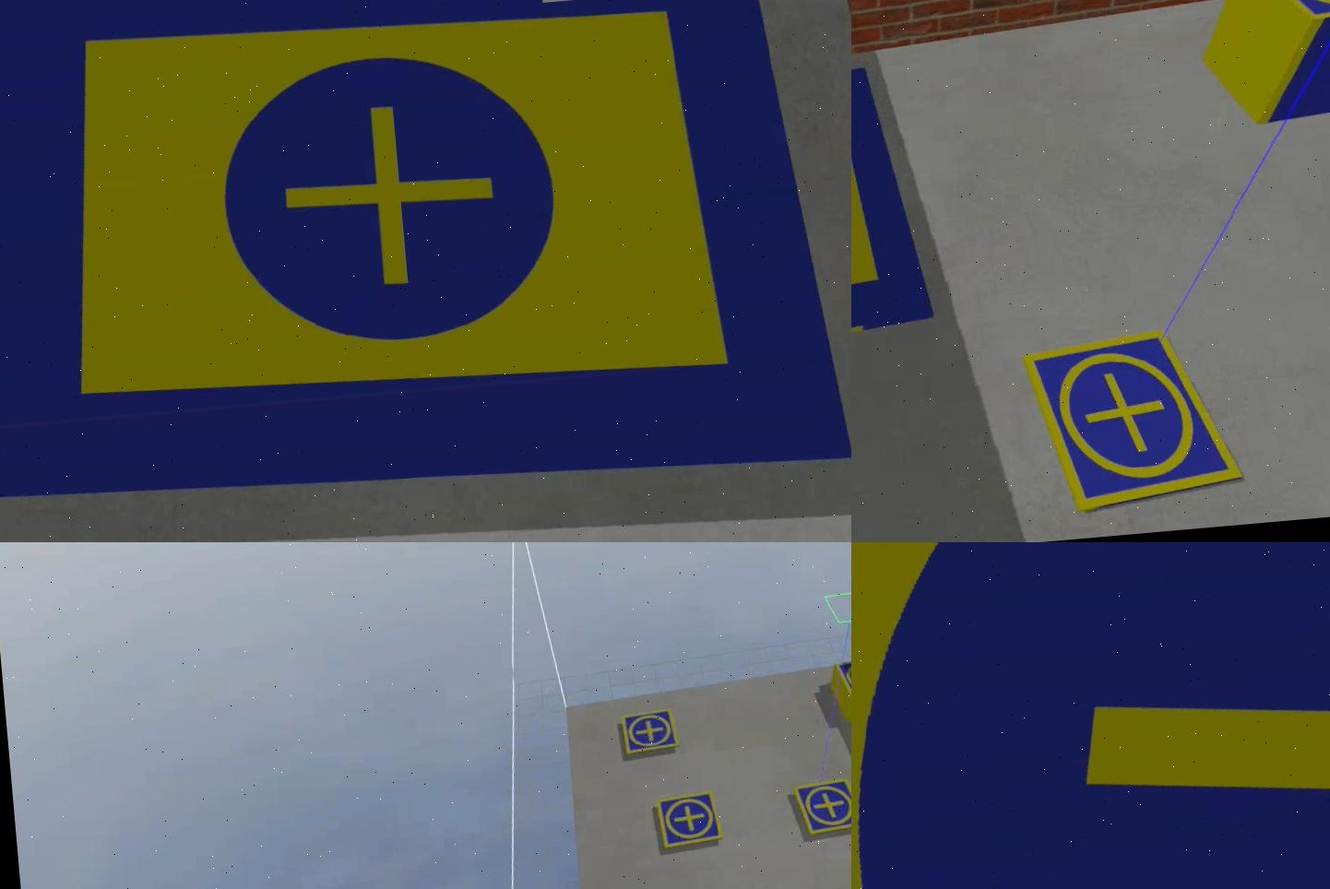large_base: (0, 1, 850, 535), (850, 542, 1328, 889), (850, 56, 935, 371)
small_base: (1020, 325, 1238, 513), (651, 790, 721, 852), (791, 776, 850, 838), (614, 706, 681, 758), (1241, 1, 1328, 41), (834, 654, 850, 706)
